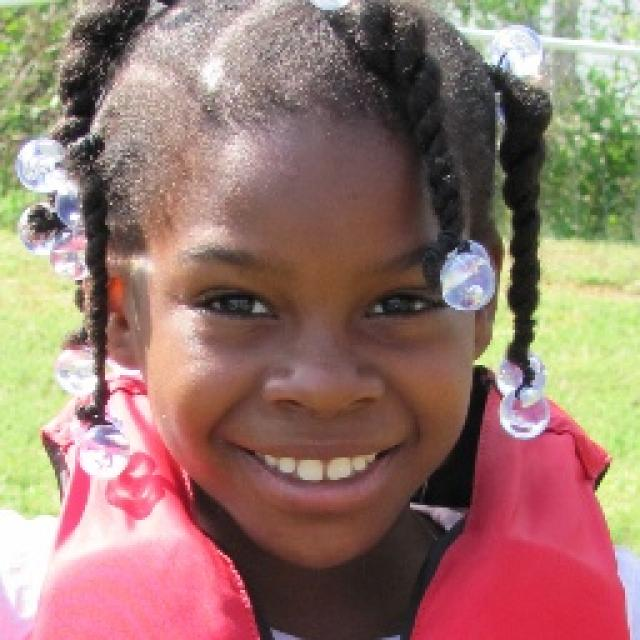earlobe: (83, 257, 143, 372), (469, 233, 504, 359)
